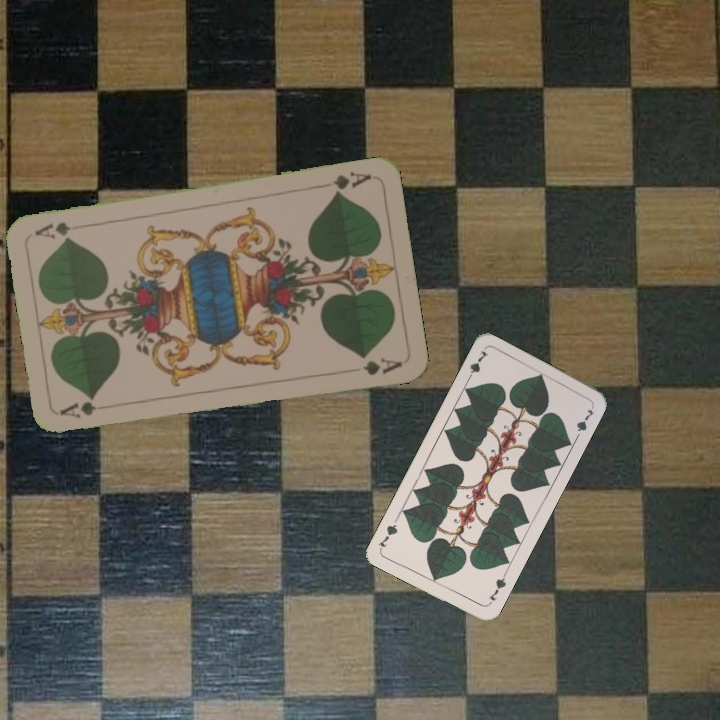G7: (463, 346, 491, 384), (484, 570, 509, 603)
GA: (316, 167, 374, 198), (57, 397, 99, 421)
